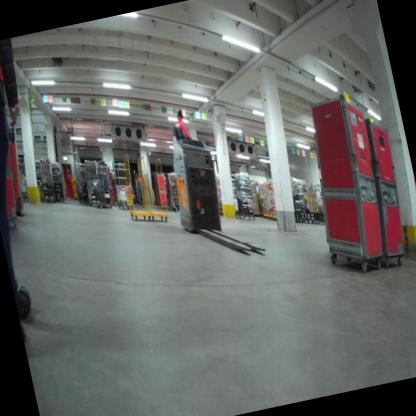pallet_truck: (157, 113, 269, 271), (0, 121, 40, 223)
